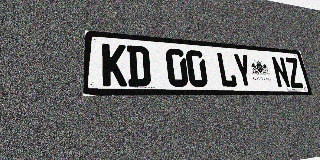0: (165, 48, 189, 87), (185, 50, 208, 87)
D: (127, 45, 151, 87)
K: (102, 43, 127, 86)
L: (216, 52, 238, 87)
N: (271, 56, 291, 88)
Y: (232, 53, 254, 88)
Z: (284, 57, 304, 88)
